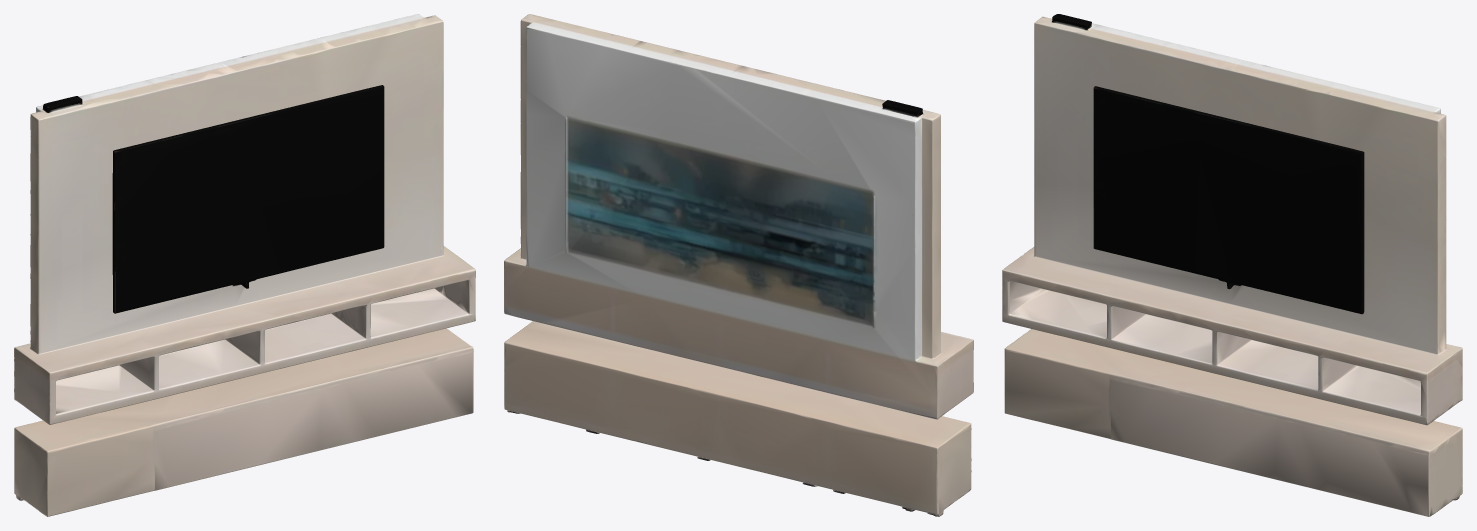
Rendered from fm_tv_wall.glb.
3 renders of one model, left to right at view 1: azimuth 30°, elevation 25°; view 2: azimuth 150°, elevation 25°; view 3: azimuth 330°, elevation 25°, orthographic. The views are drawn at different scales.
Parts seen in each view (by area): view 1: world; view 2: world; view 3: world.
Part boxes in pixels (bbox=[...]): world: bbox=[14, 14, 475, 516]; world: bbox=[504, 14, 973, 516]; world: bbox=[1002, 14, 1462, 516].
Bounding box in the file's own units: 2 × 1.75 × 0.2959.
1 material, 1 textured.
